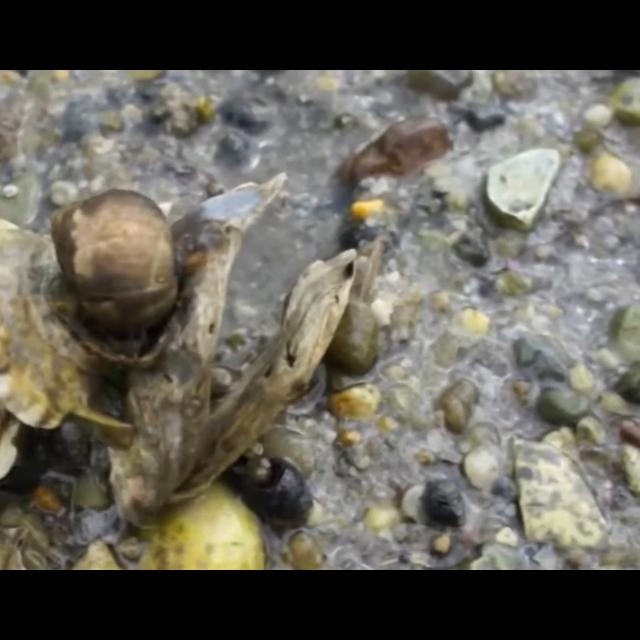Oyster-Closed: (0, 216, 106, 430)
Oyster-Open: (106, 170, 362, 530)
